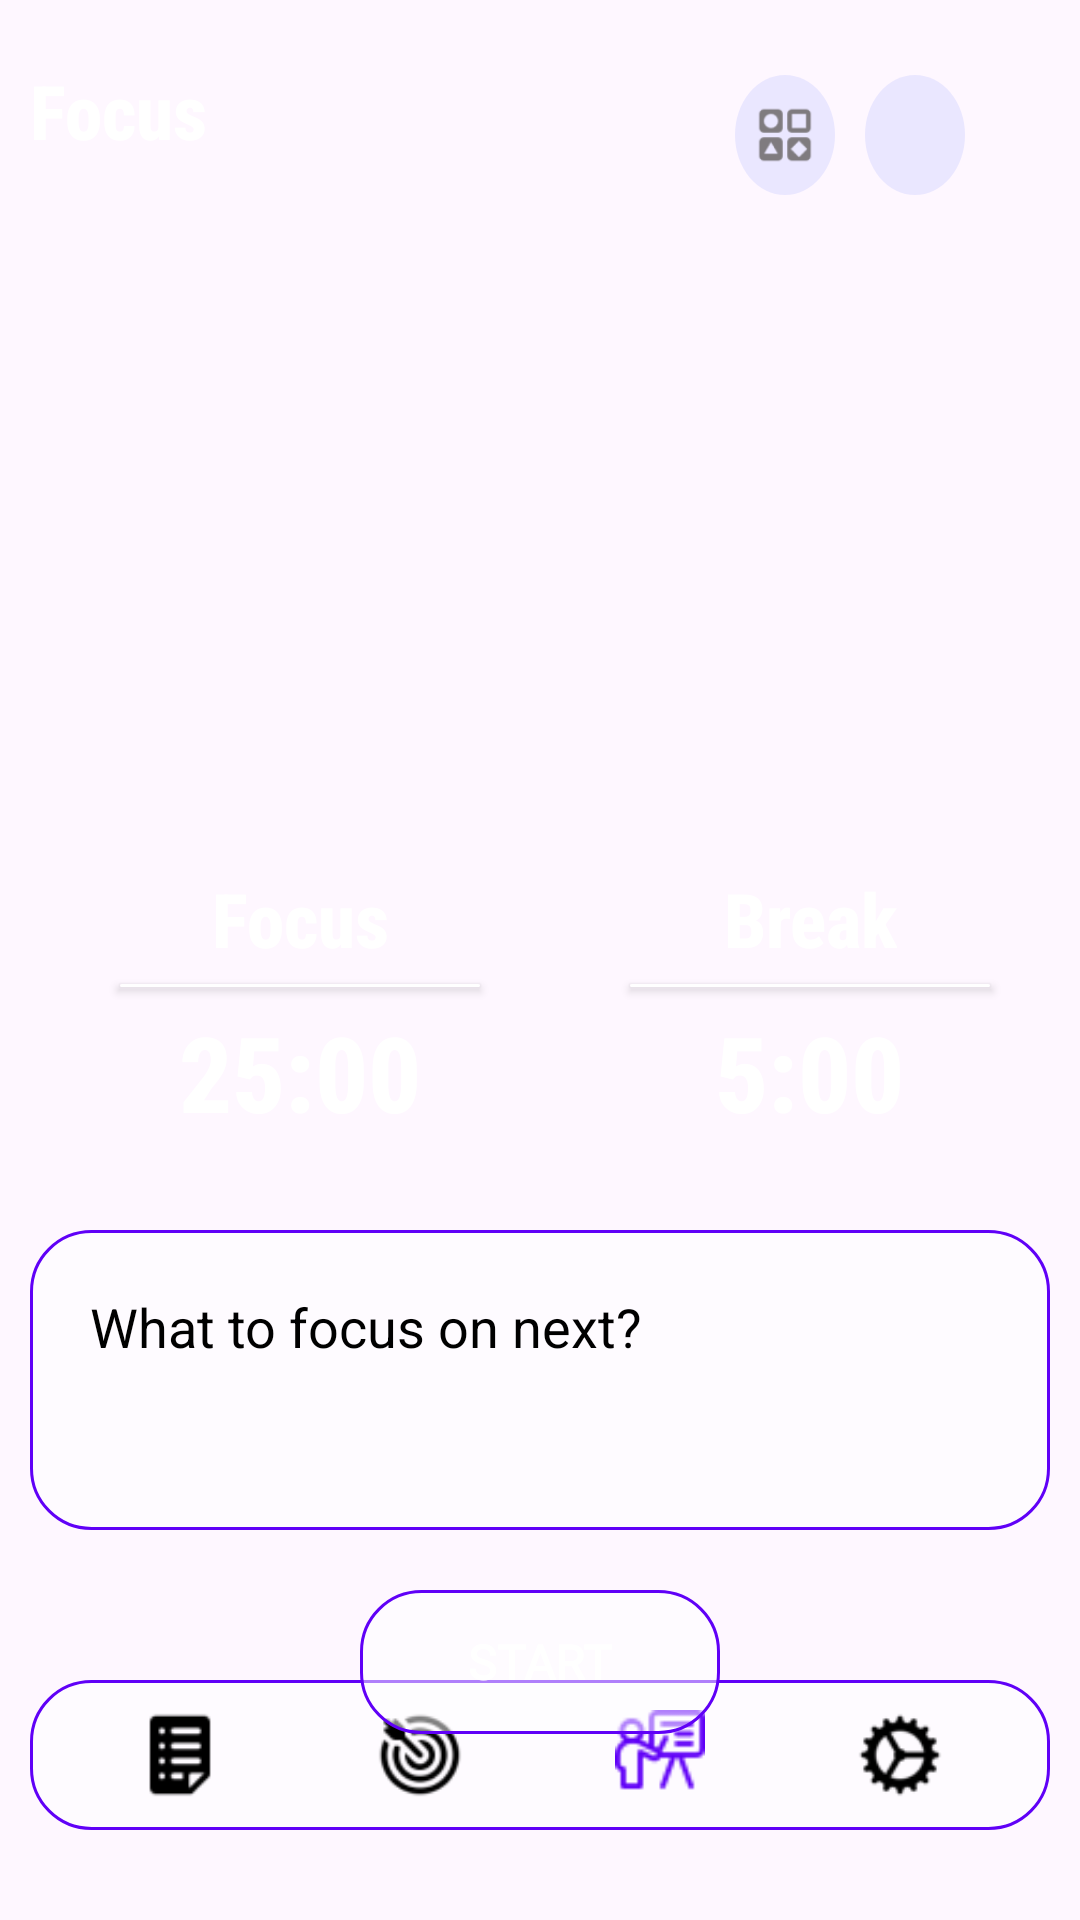

Screen size 1080px×1920px. Icon name, then its center in pixels as point (x, y):
notes: point (180, 1755)
setting: point (900, 1755)
